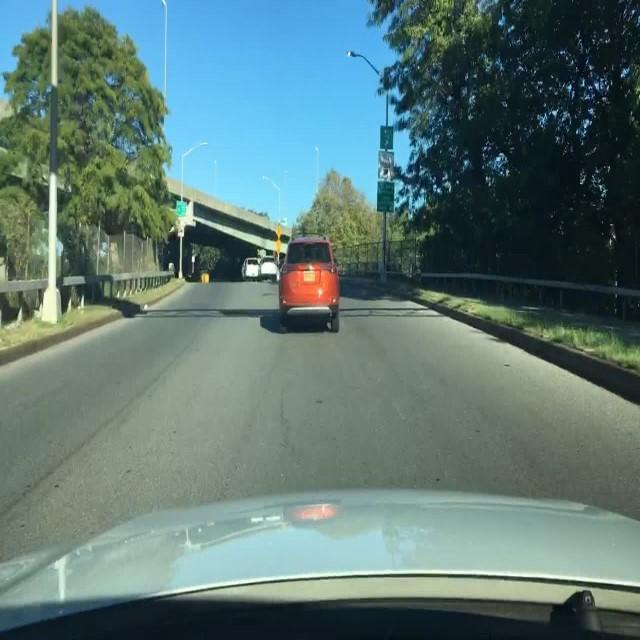normal: (260, 210, 353, 344)
